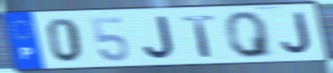0: (45, 16, 84, 64)
5: (88, 15, 131, 63)
J: (141, 14, 177, 60), (280, 11, 314, 55)
Q: (222, 9, 276, 59)
T: (180, 13, 217, 59)
